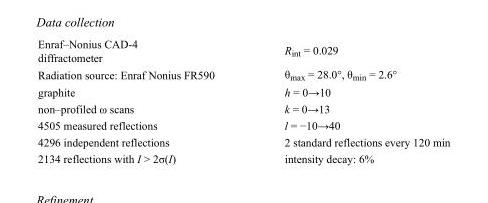table: (37, 37, 449, 164)
table column: (37, 37, 248, 164), (248, 37, 449, 164)
table row: (37, 37, 449, 65), (37, 65, 449, 83), (37, 83, 449, 100), (37, 116, 449, 133), (37, 100, 449, 116), (37, 133, 449, 149), (37, 149, 449, 164)
